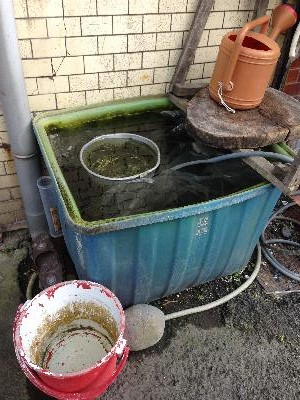bowl: (206, 29, 280, 107)
box: (33, 94, 286, 306)
bucket: (12, 276, 130, 396)
